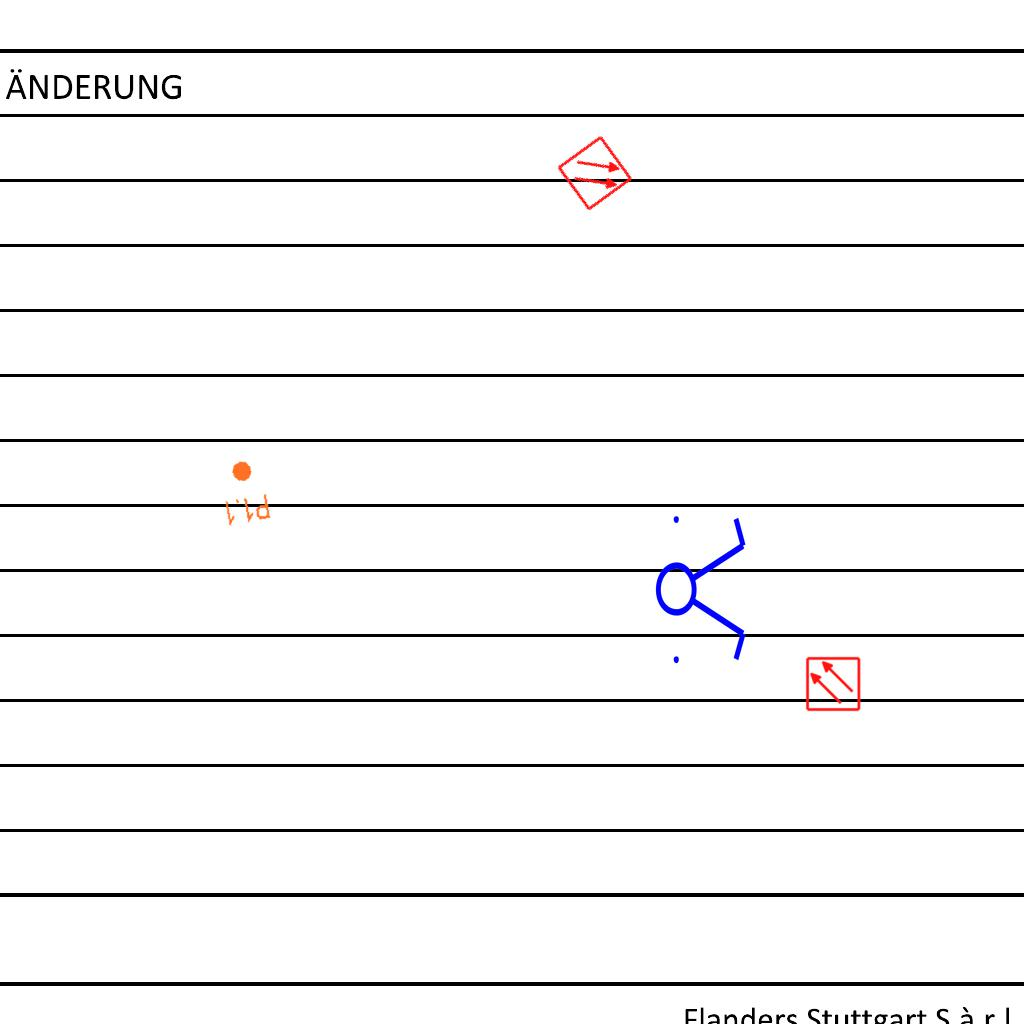Downlight_LED_Einbauleuchten_Flur: (215, 456, 273, 528)
RMO_Rauchmelder_optischer: (555, 133, 635, 213), (805, 656, 861, 712)
Serienschalter: (654, 504, 750, 672)
